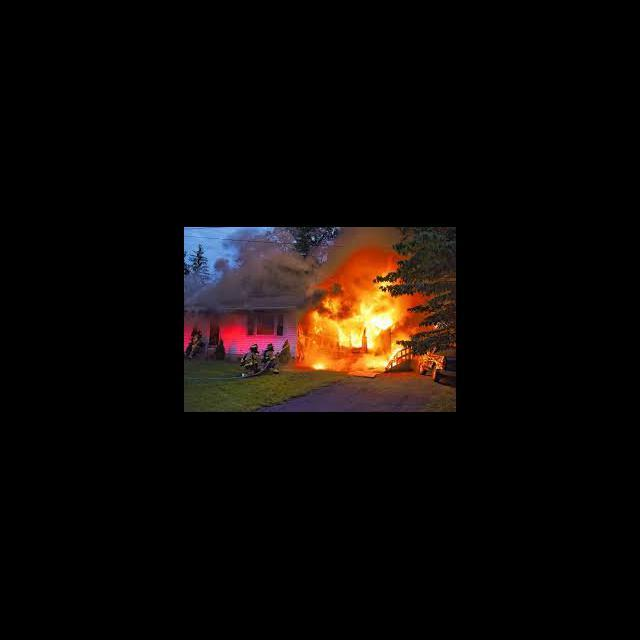Fire: (299, 252, 432, 376)
Smoke: (188, 241, 294, 307), (333, 228, 400, 249)
